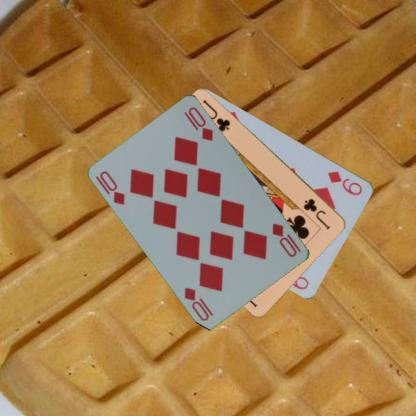10d: (93, 168, 127, 206), (270, 221, 303, 259)
9d: (325, 168, 364, 197)
Jc: (301, 195, 332, 231)
